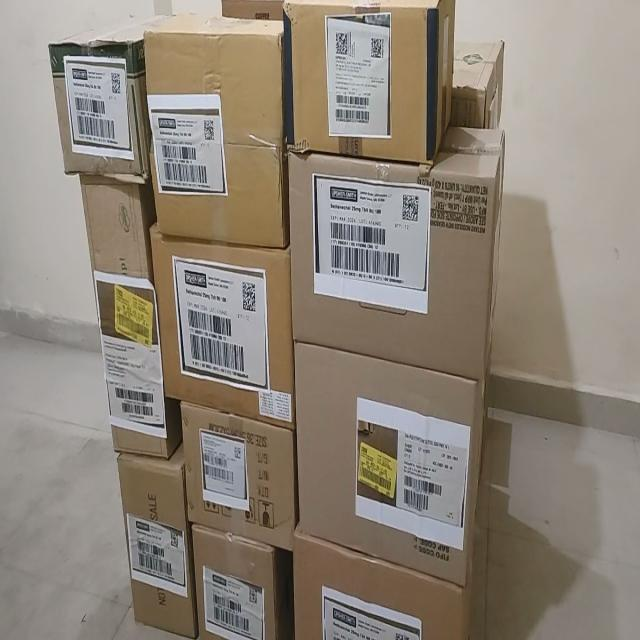BoxFace: (286, 125, 506, 382), (293, 339, 484, 586), (143, 12, 287, 248), (148, 222, 294, 428), (282, 0, 456, 164), (72, 178, 169, 460), (292, 522, 477, 637), (47, 10, 169, 183), (180, 398, 296, 551), (115, 446, 197, 638), (190, 522, 292, 637)
